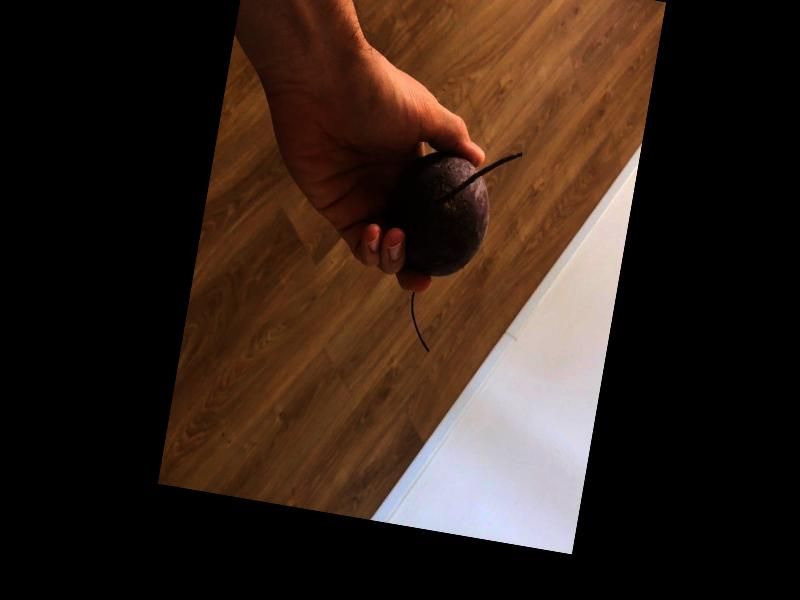Beet: (368, 133, 522, 362)
